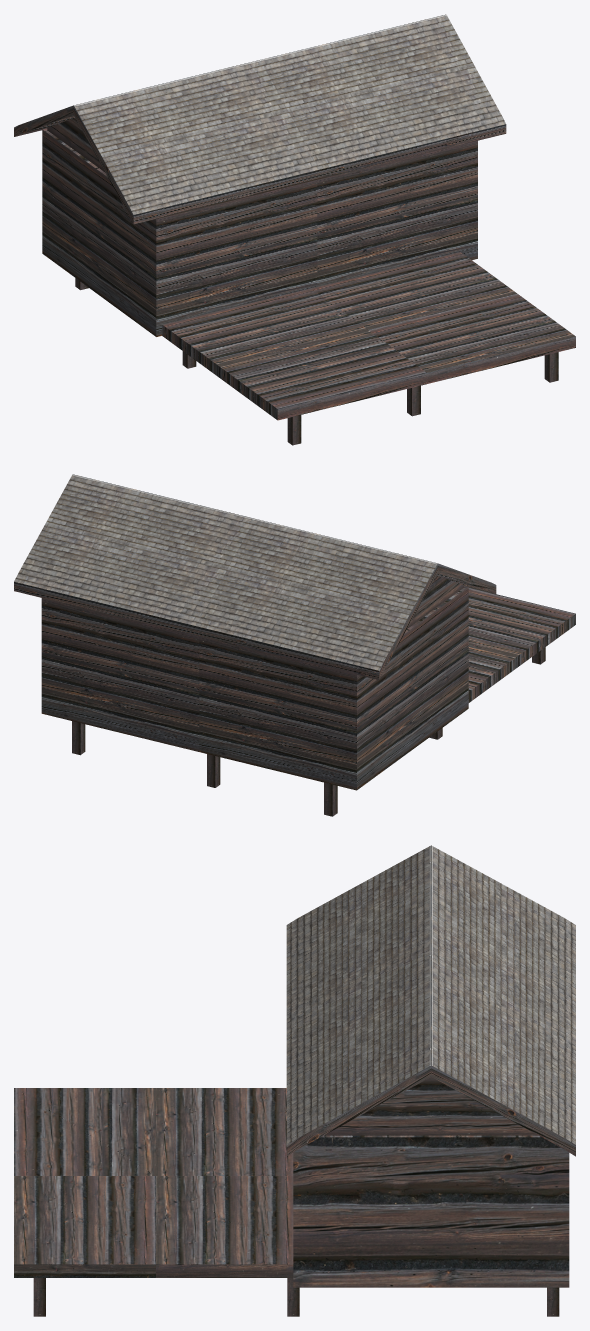
File: Cabana.FBX
3 renders of one model, top to bottom at view 1: azimuth 30°, elevation 25°; view 2: azimuth 150°, elevation 25°; view 3: azimuth 270°, elevation 25°, orthographic. The views are drawn at different scales.
Parts seen in each view (by area): view 1: Box003, Box001, Box002; view 2: Box003, Box001, Box002, Box006, Box008, Box011; view 3: Box003, Box002, Box001.
Boxes of the visible parts, x1,y1,x2,y2 form: Box003: [14, 14, 506, 224]; Box001: [42, 128, 477, 336]; Box002: [162, 252, 575, 420]; Box003: [14, 474, 496, 679]; Box001: [41, 586, 468, 790]; Box002: [468, 588, 575, 702]; Box006: [324, 782, 337, 816]; Box008: [207, 754, 220, 787]; Box011: [72, 721, 85, 755]; Box003: [286, 845, 575, 1156]; Box002: [14, 1088, 293, 1277]; Box001: [293, 1135, 569, 1287].
Size of the model in its own units: 36.72 by 39.64 by 21.95.
1 material, 1 textured.
